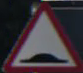Speed Breaker ahead: (8, 9, 70, 66)
